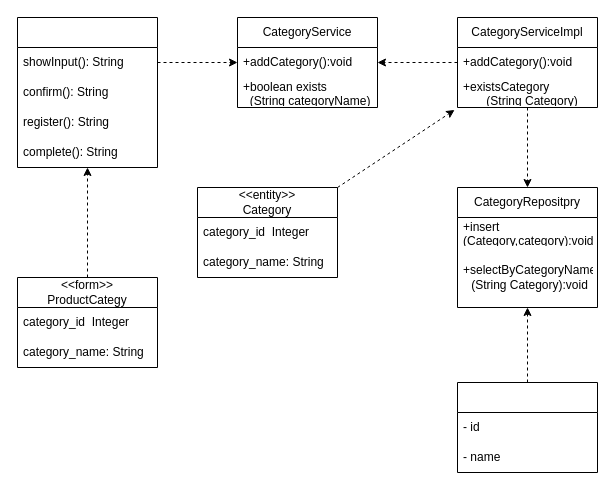
Some shapes in this 615 by 490 pixel diagram are drawn without their labels. The box of each missing label's shape, as (x1, y1, x2, y2) in pixels:
Category: (456, 382, 598, 472)
CategoryContoroller: (16, 16, 158, 168)
